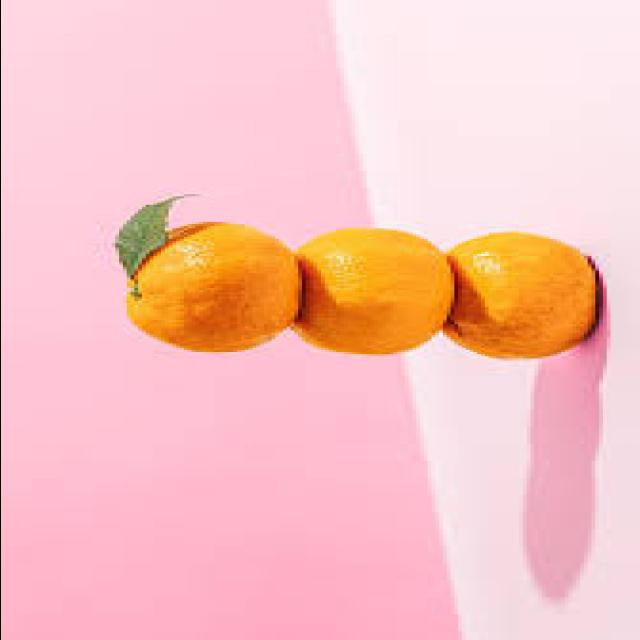orange: (448, 220, 620, 370), (125, 223, 307, 361)
